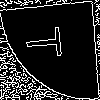T: (25, 25, 71, 60)
